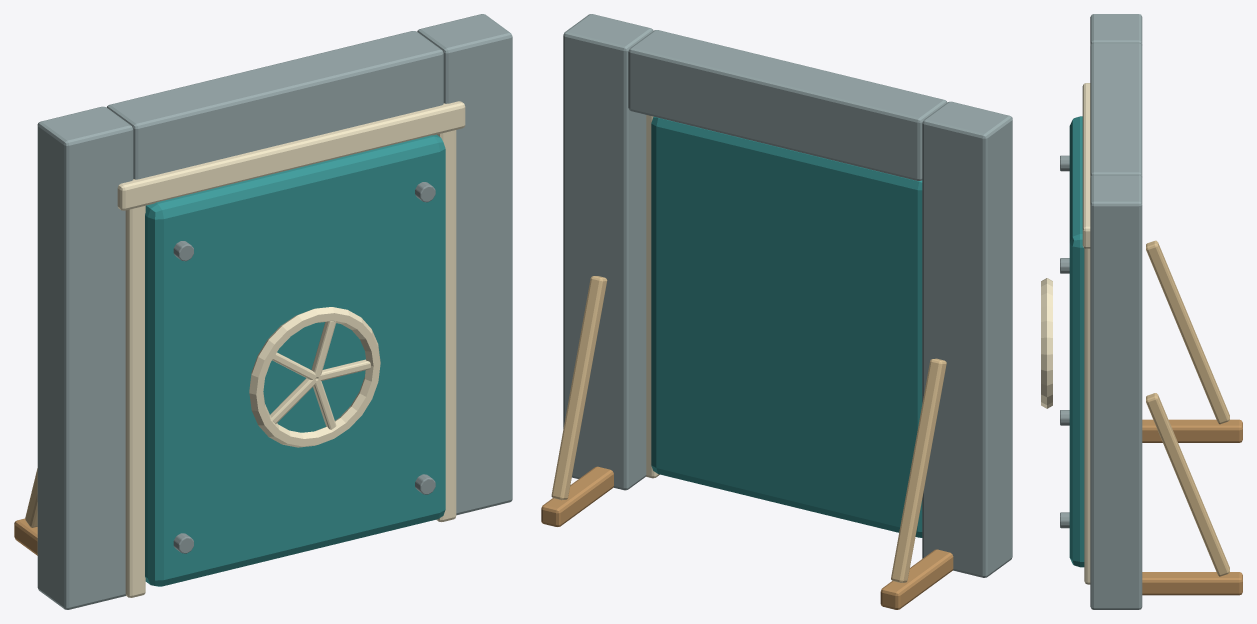
The model's file is S087_vault_door.glb.
The picture shows the model from 3 angles, left to right: view 1: azimuth 30°, elevation 25°; view 2: azimuth 150°, elevation 25°; view 3: azimuth 270°, elevation 25°; orthographic projection. The views are drawn at different scales.
Visible parts, largest first — view 1: vault_door, wall_side, wall_side.001, wall_lintel, door_lintel, door_jamb, vault_wheel, door_jamb.001; view 2: vault_door, wall_side, wall_side.001, wall_lintel, rear_triangular_brace, rear_triangular_brace.001, door_jamb.001, rear_plywood_foot, rear_plywood_foot.001; view 3: wall_side.001, wall_lintel, vault_door, rear_triangular_brace, rear_triangular_brace.001, rear_plywood_foot.001, door_jamb.001, rear_plywood_foot, wall_side, vault_wheel, door_lintel.
Part boxes in pixels (x1,y1,x2,y2): vault_door: (145,134,445,586); wall_side: (37,106,133,609); wall_side.001: (417,14,512,515); wall_lintel: (107,31,443,179); door_lintel: (117,101,465,210); door_jamb: (125,205,145,597); vault_wheel: (249,307,380,447); door_jamb.001: (436,130,456,522); vault_door: (651,116,922,537); wall_side: (922,101,1012,577); wall_side.001: (563,14,653,490); wall_lintel: (628,30,947,180); rear_triangular_brace: (891,358,946,582); rear_triangular_brace.001: (551,276,607,500); door_jamb.001: (646,115,659,478); rear_plywood_foot: (880,549,953,609); rear_plywood_foot.001: (541,466,613,526); wall_side.001: (1090,175,1142,609); wall_lintel: (1090,43,1142,177); vault_door: (1069,116,1084,567); rear_triangular_brace: (1146,240,1229,424); rear_triangular_brace.001: (1146,393,1229,576); rear_plywood_foot.001: (1142,572,1242,595); door_jamb.001: (1084,248,1090,584); rear_plywood_foot: (1142,419,1242,442); wall_side: (1090,14,1142,45); vault_wheel: (1041,278,1052,408); door_lintel: (1082,83,1090,248).
Bounding box in the file's own units: 2.6 × 2.6 × 1.16.
